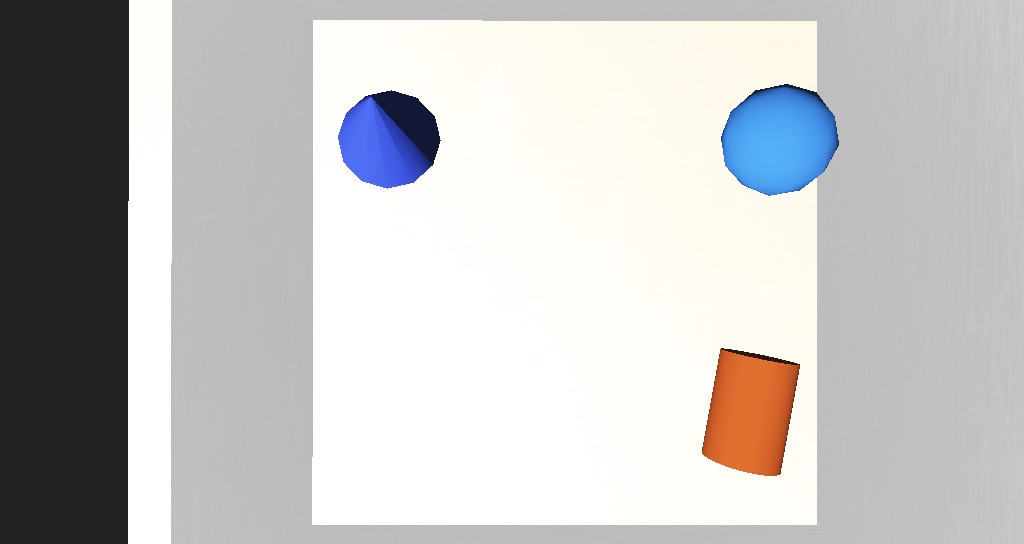cone: (579, 303, 647, 356)
cylinder: (360, 179, 435, 231)
sphere: (593, 193, 660, 236)
